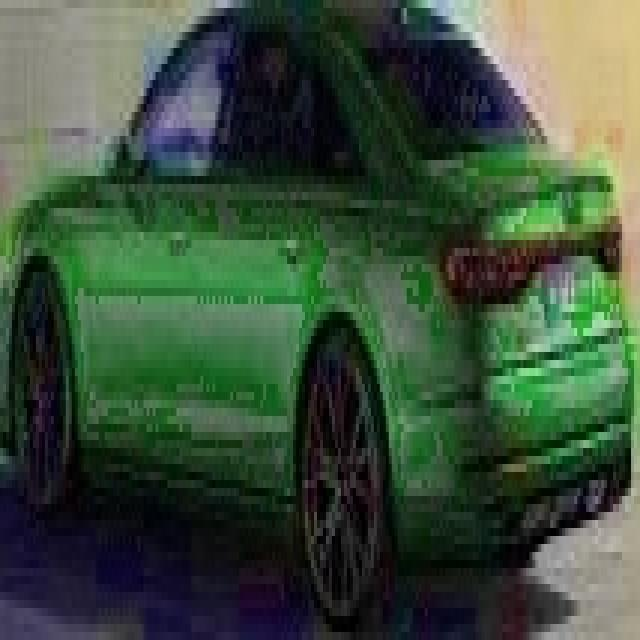green: (6, 12, 640, 620)
